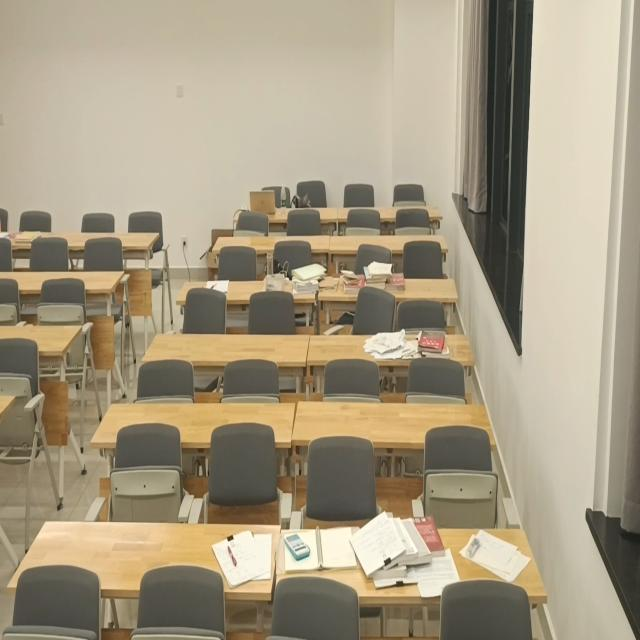Non-empty: (6, 518, 279, 594), (276, 525, 547, 596), (308, 332, 472, 362), (177, 273, 323, 302), (318, 272, 460, 300), (235, 200, 341, 220)
empty: (295, 397, 494, 445), (89, 401, 297, 445), (140, 331, 311, 364), (331, 233, 447, 256)
